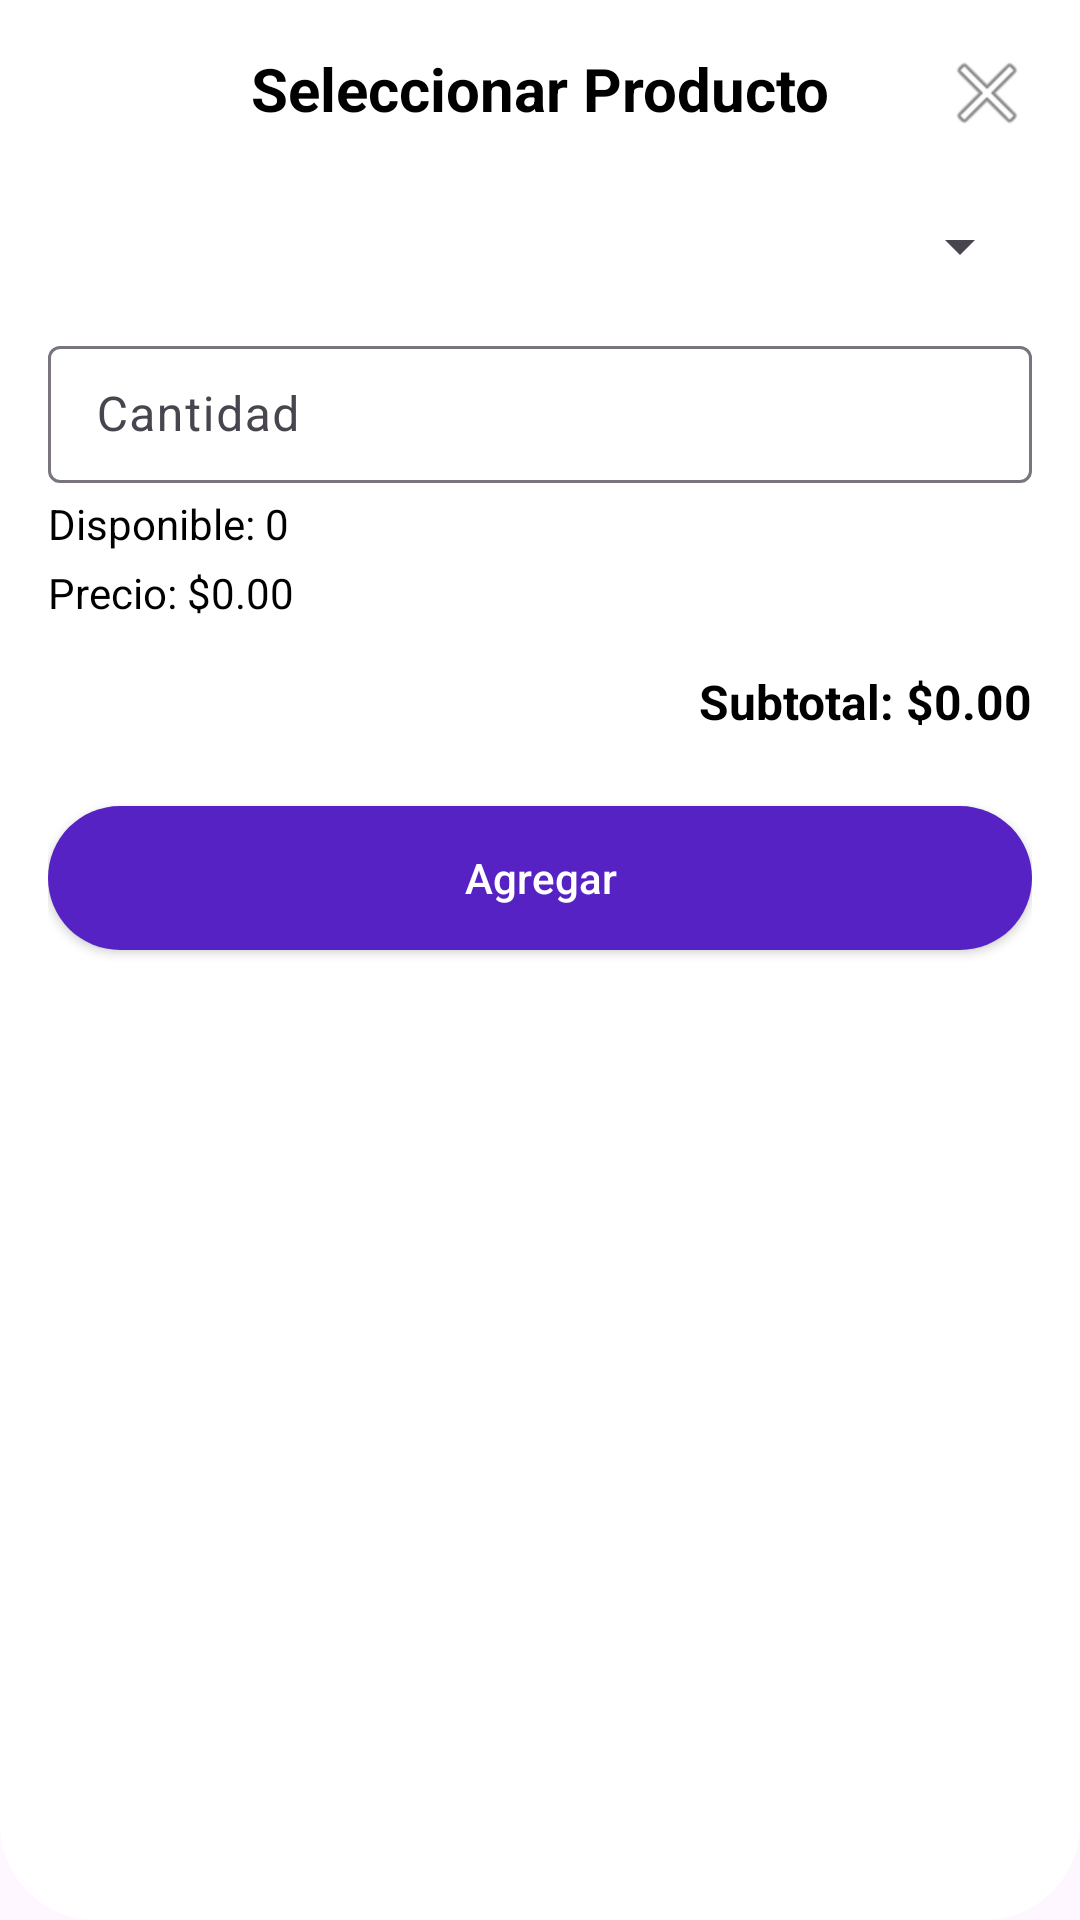

Icons on this 1080 × 1920 Android screen, each with its box as (x1, y1, x2, y2):
Cerrar: (957, 63, 1017, 123)
